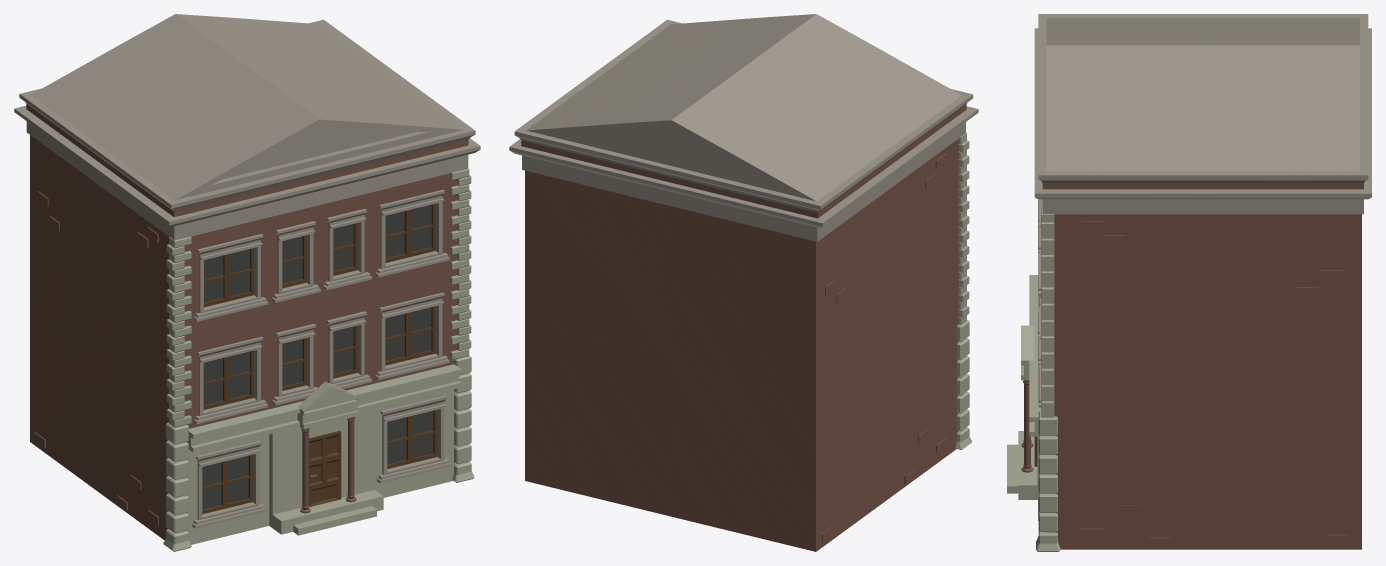
File: it-palazzo-big.glb
3 views of the same model, side by side, from view 1: azimuth 30°, elevation 25°; view 2: azimuth 150°, elevation 25°; view 3: azimuth 270°, elevation 25° (orthographic). The views are drawn at different scales.
Visible parts, largest first — view 1: Building3_Big; view 2: Building3_Big; view 3: Building3_Big.
Boxes of the visible parts, x1,y1,x2,y2 form: Building3_Big: (14,14,480,551); Building3_Big: (509,14,978,551); Building3_Big: (1007,14,1371,551).
Bounding box in the file's own units: 4.71 × 5.68 × 4.39.
1 material, 1 textured.
